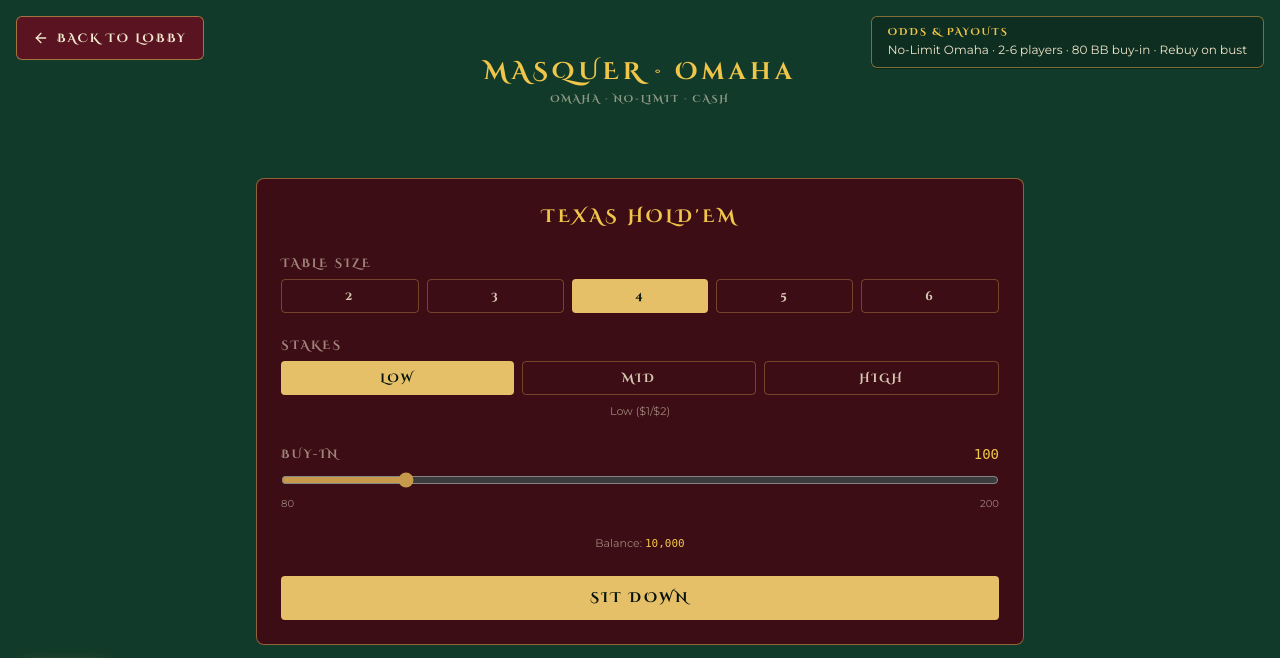
Test: OmahaPage — gameplay › SIT DOWN debits wallet and renders the table
The image size is (1280, 658).
Click the button "2".
click(350, 296)  # box [281,279,419,313]
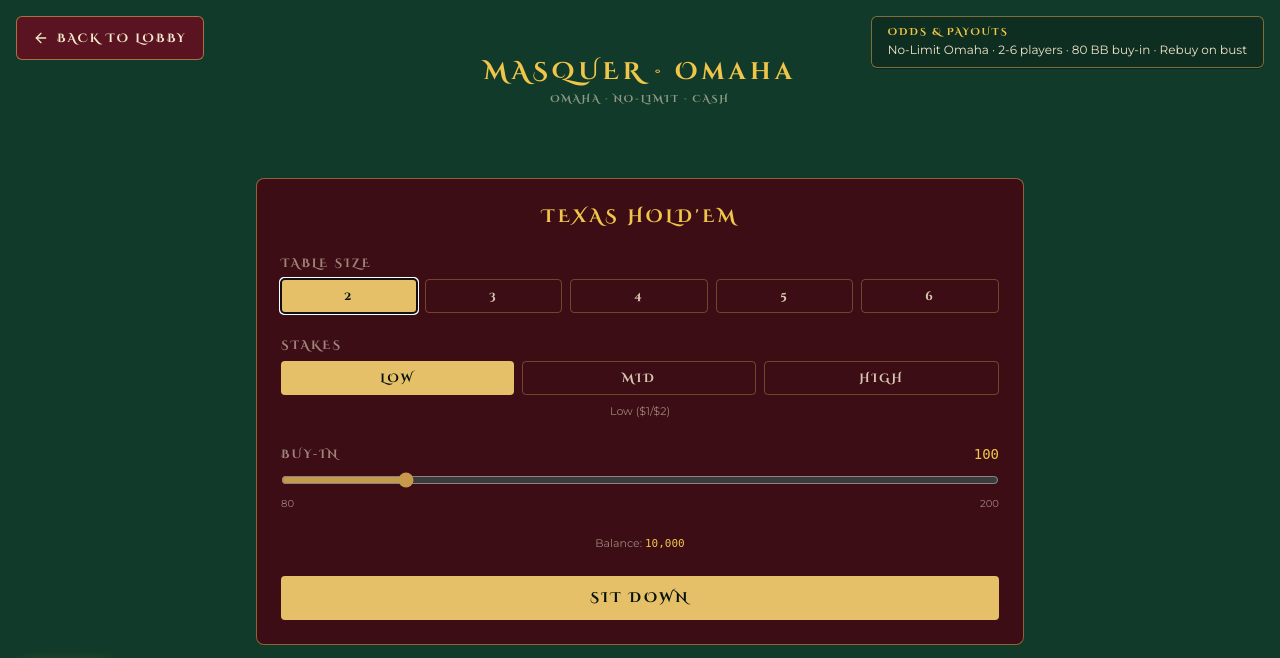
Click the button "SIT DOWN".
click(640, 598)  # box [281,576,999,620]
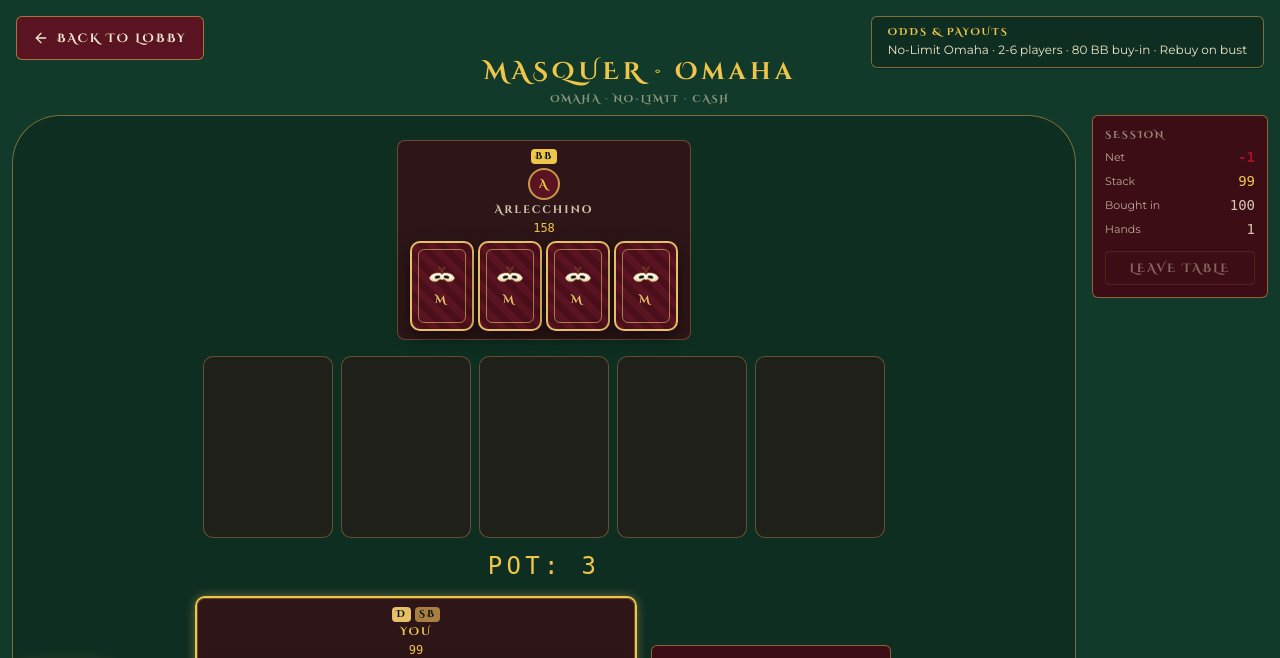
Check: the button "LEAVE TABLE" is shown, box [1105,251,1255,285]
